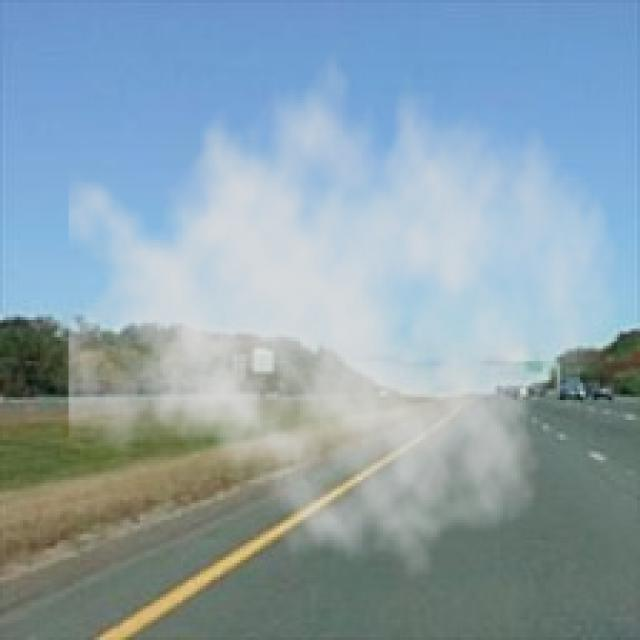smoke: (69, 29, 620, 580)
